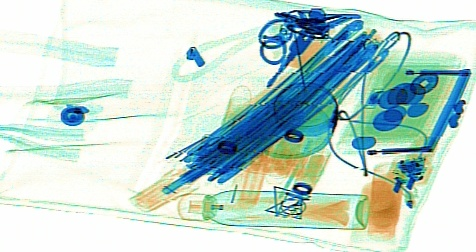pressure: (176, 189, 369, 230)
